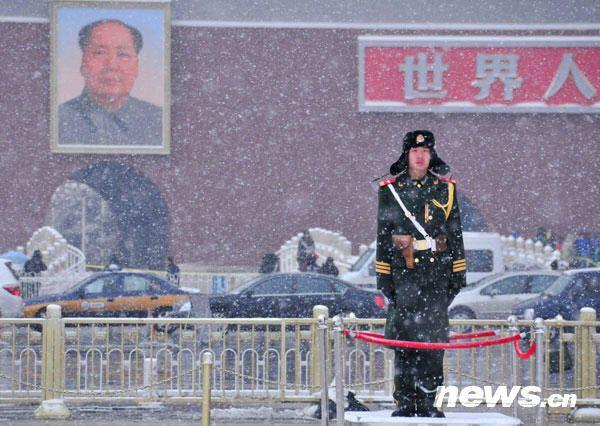up: (363, 128, 472, 418)
